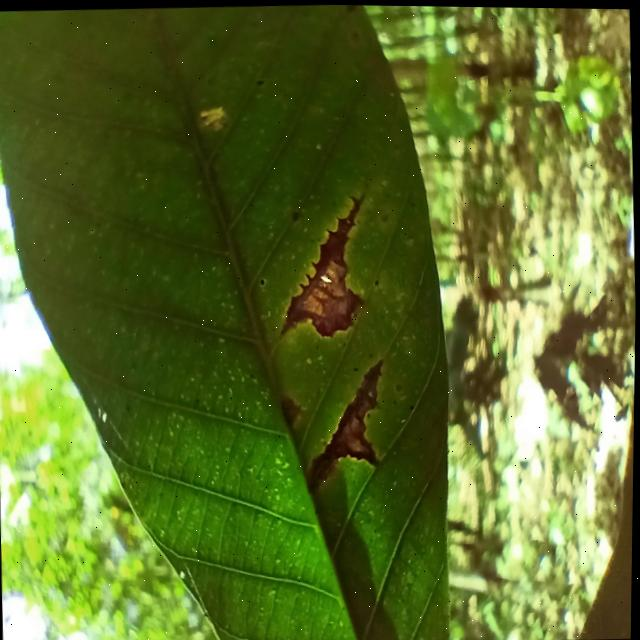Colletotrichum: (260, 277, 264, 285)
Corynespora: (275, 192, 366, 338), (300, 355, 389, 494)
